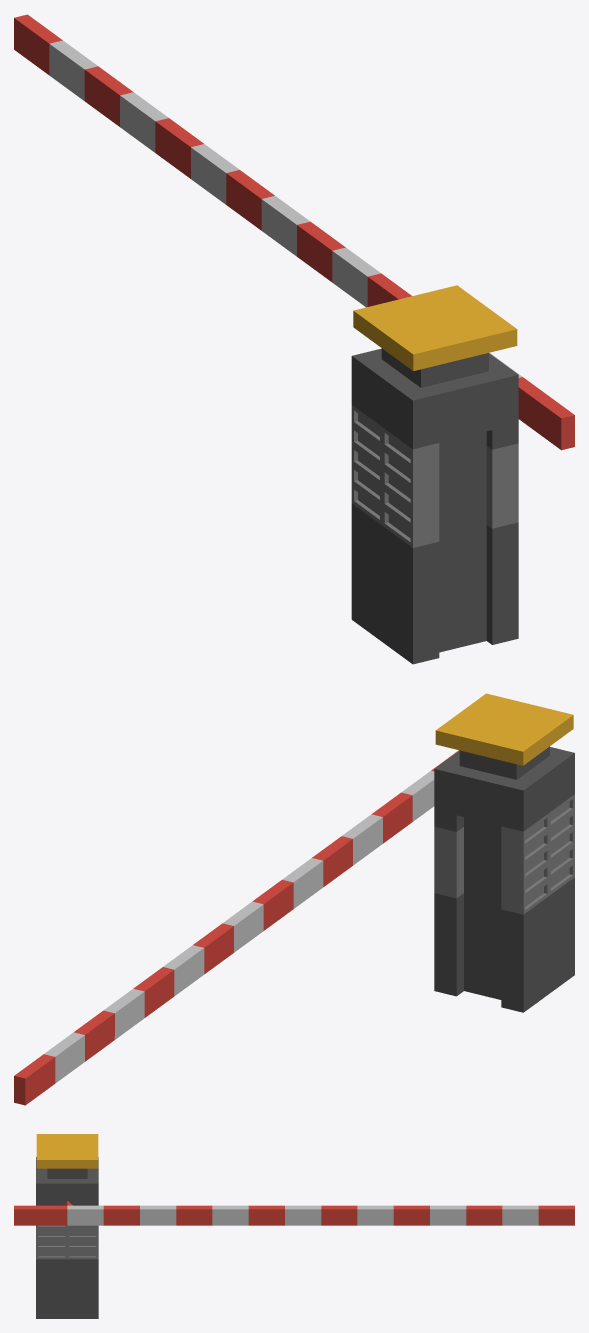
The model's file is Barricade 4.fbx.
The picture shows the model from 3 angles, top to bottom: view 1: azimuth 30°, elevation 25°; view 2: azimuth 150°, elevation 25°; view 3: azimuth 270°, elevation 25°; orthographic projection. The views are drawn at different scales.
Visible parts, largest first — view 1: Barrier Gate, Cube.005; view 2: Barrier Gate, Cube.005; view 3: Cube.005, Barrier Gate.
Boxes of the visible parts, x1,y1,x2,y2 form: Barrier Gate: (351, 285, 518, 664); Cube.005: (14, 14, 574, 450); Barrier Gate: (434, 693, 574, 1012); Cube.005: (14, 750, 458, 1105); Cube.005: (14, 1201, 574, 1225); Barrier Gate: (36, 1134, 98, 1318).
Size of the model in its own units: 0.5444 by 3.67 by 1.15.
